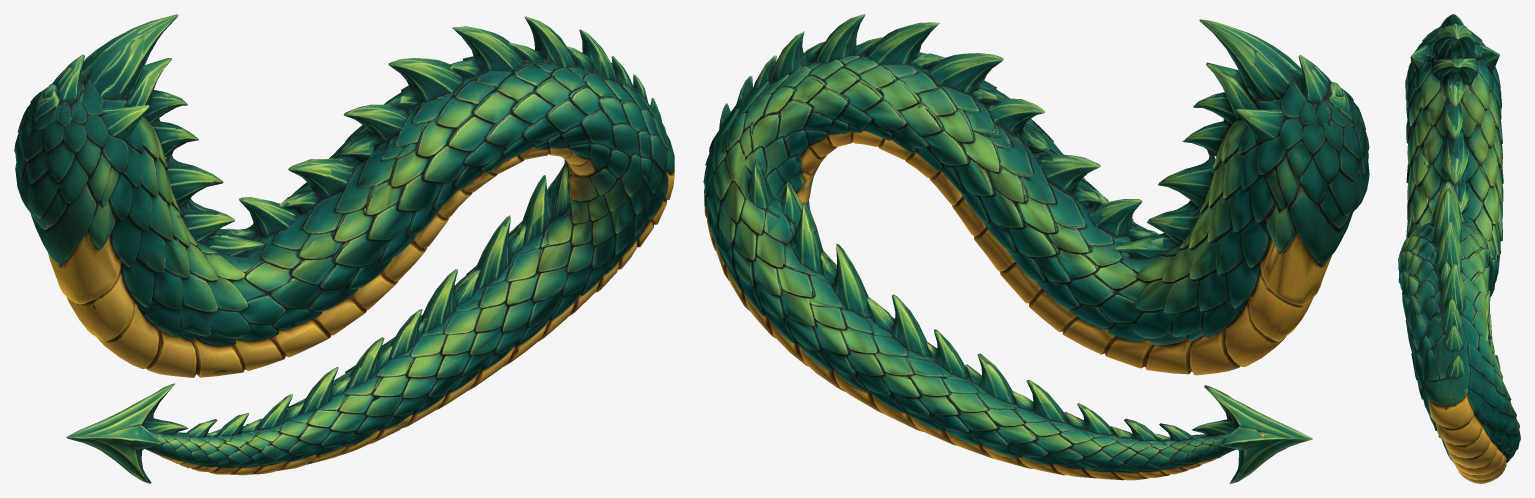
The model's file is NamoraTail.glb.
3 views of the same model, side by side, from view 1: azimuth 30°, elevation 25°; view 2: azimuth 150°, elevation 25°; view 3: azimuth 270°, elevation 25° (orthographic). The views are drawn at different scales.
Parts seen in each view (by area): view 1: Mesh_0; view 2: Mesh_0; view 3: Mesh_0.
Part boxes in pixels (x1,y1,x2,y2): Mesh_0: [14, 14, 674, 483]; Mesh_0: [703, 14, 1369, 483]; Mesh_0: [1398, 14, 1520, 483].
Bounding box in the file's own units: 1.9 × 1.36 × 0.4245.
Materials: 1 (1 with a texture image).
